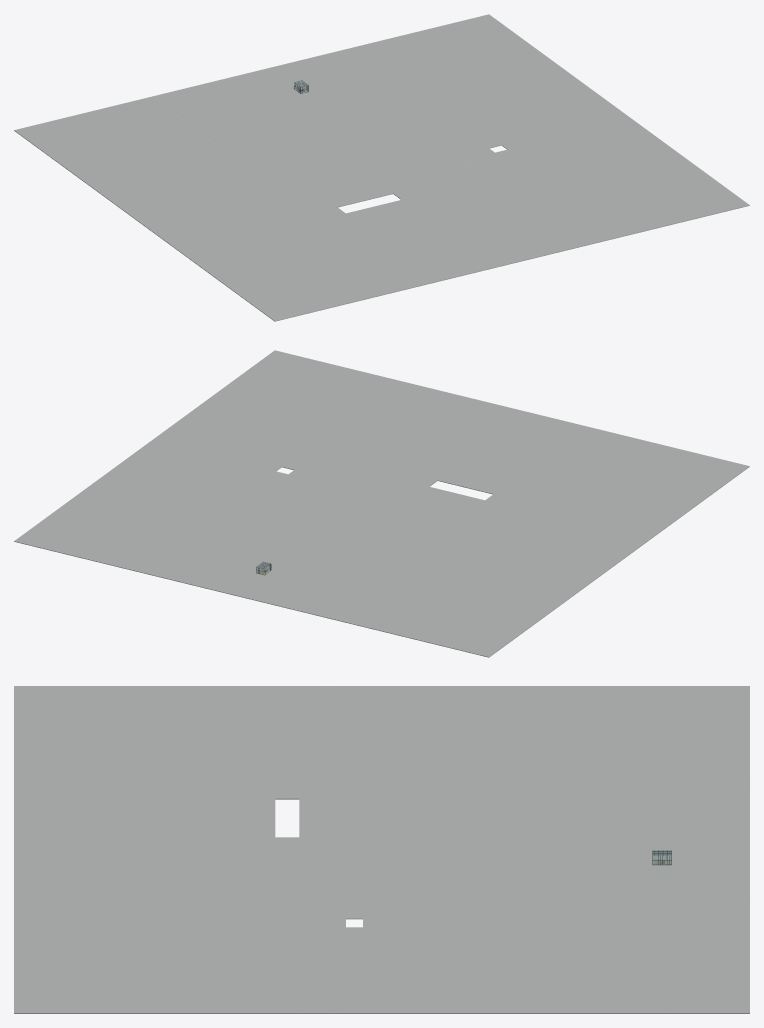
The model's file is theatre.glb.
3 renders of one model, top to bottom at view 1: azimuth 30°, elevation 25°; view 2: azimuth 150°, elevation 25°; view 3: azimuth 270°, elevation 25°, orthographic. The views are drawn at different scales.
Visible parts, largest first — view 1: Axis ground replacement / Surroundings - continuous plaza fo, Axis ground replacement / ground; view 2: Axis ground replacement / Surroundings - continuous plaza fo, Axis ground replacement / ground; view 3: Axis ground replacement / Surroundings - continuous plaza fo, Axis ground replacement / ground.
Part boxes in pixels (bbox=[...]): Axis ground replacement / Surroundings - continuous plaza fo: bbox=[14, 14, 749, 321]; Axis ground replacement / ground: bbox=[155, 55, 471, 206]; Axis ground replacement / Surroundings - continuous plaza fo: bbox=[14, 350, 749, 657]; Axis ground replacement / ground: bbox=[181, 471, 499, 623]; Axis ground replacement / Surroundings - continuous plaza fo: bbox=[14, 686, 749, 1013]; Axis ground replacement / ground: bbox=[323, 782, 749, 897].
Bounding box in the file's own units: 450 × 9.4 × 428.
12 materials, 4 textured.
